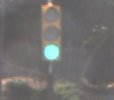Green: (36, 4, 69, 67)
